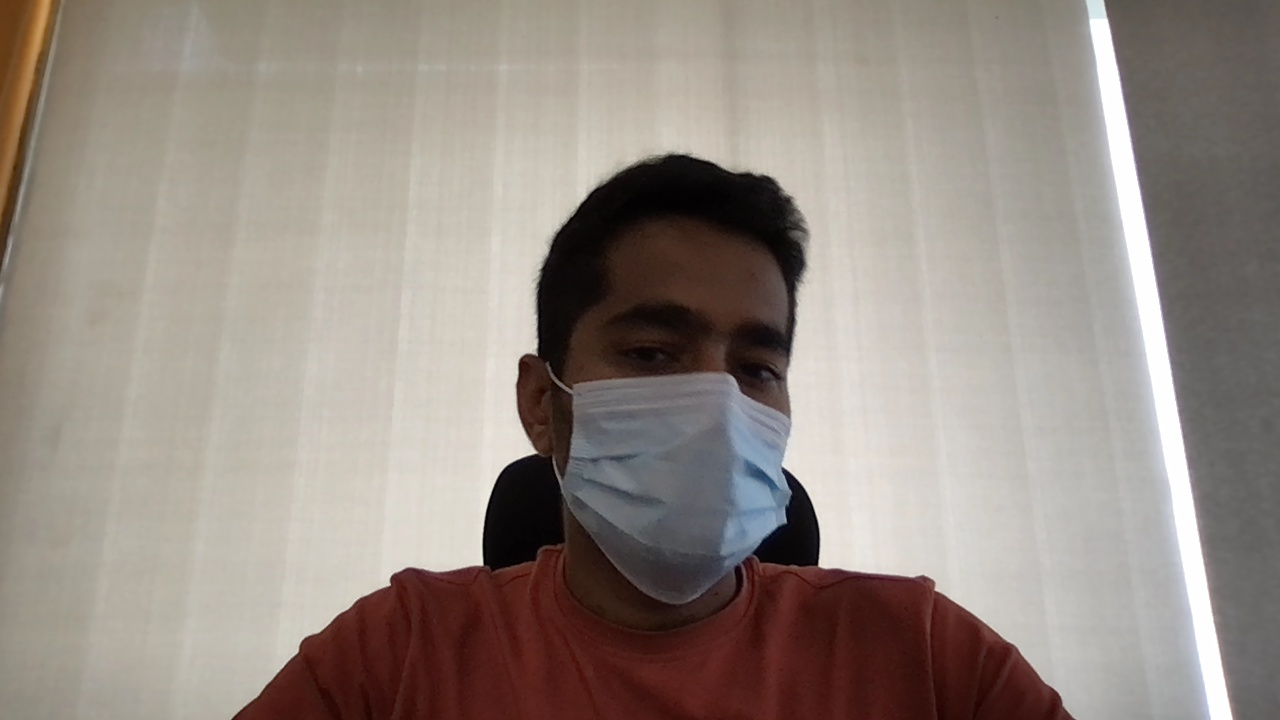mask: (560, 368, 793, 606)
